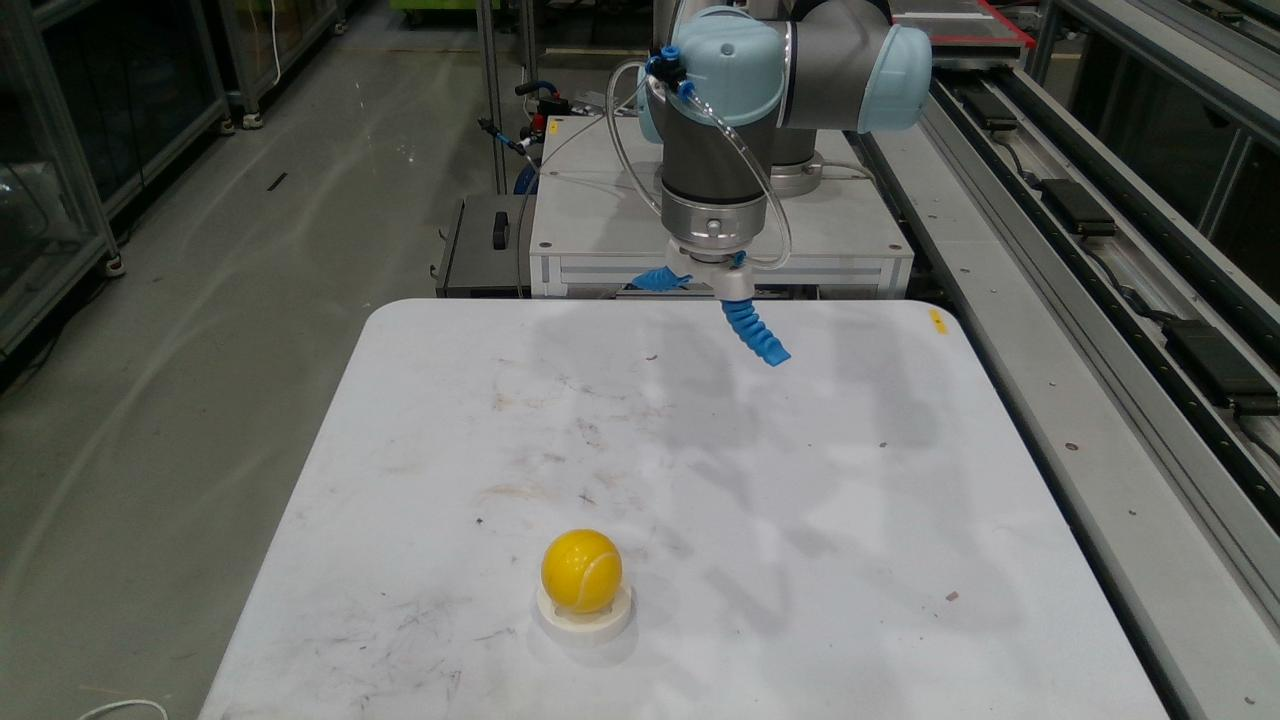UR5: (636, 0, 933, 299)
gripper_left: (629, 265, 692, 292)
gripper_right: (722, 300, 789, 366)
target: (542, 529, 622, 613), (537, 584, 632, 645)
